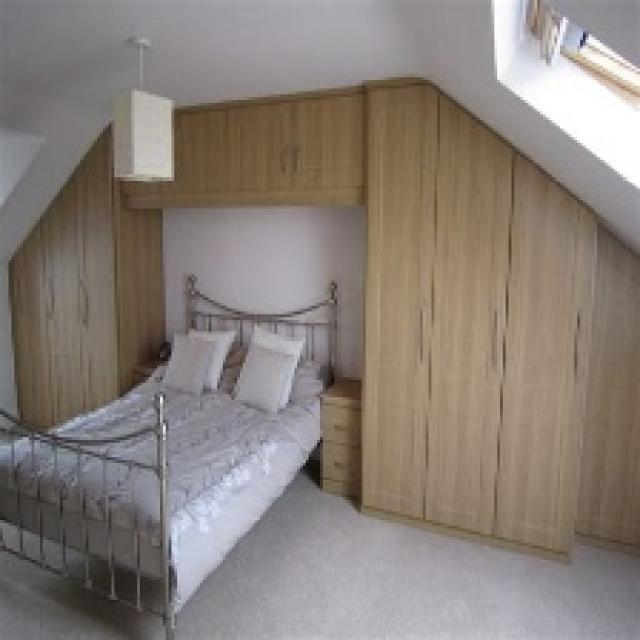Bed: (0, 274, 337, 637)
